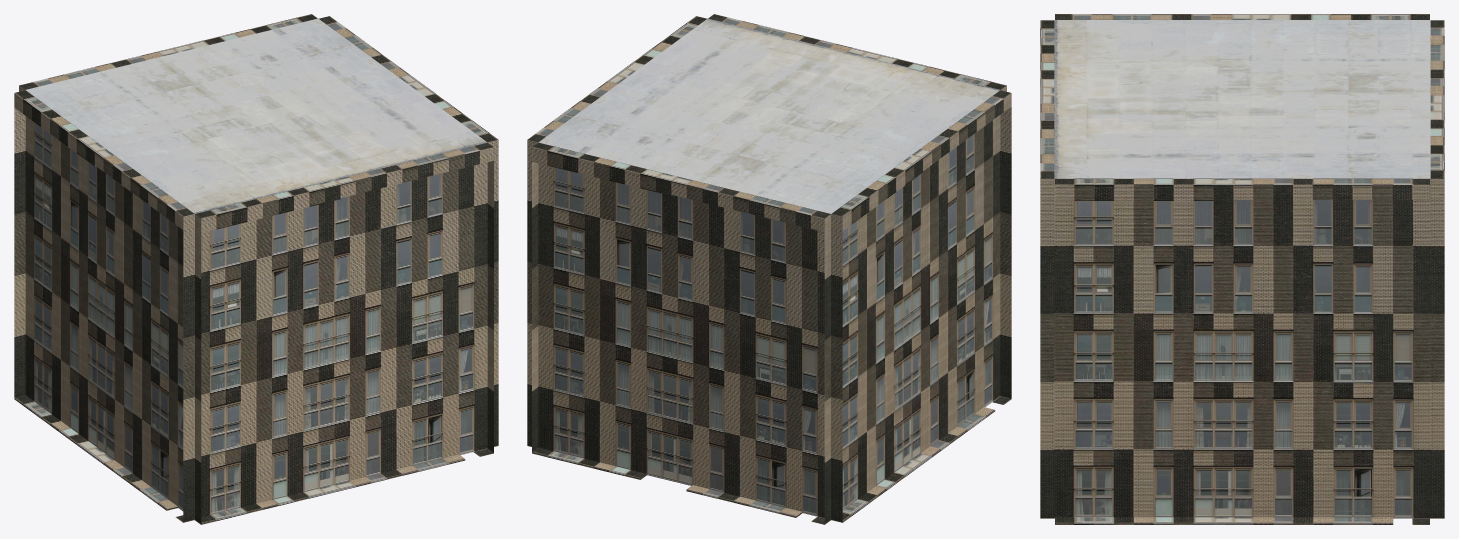
The model's file is BagSS04mid_100.fbx.
3 renders of one model, left to right at view 1: azimuth 30°, elevation 25°; view 2: azimuth 150°, elevation 25°; view 3: azimuth 270°, elevation 25°, orthographic. The views are drawn at different scales.
Visible parts, largest first — view 1: midBox100, midRoof100, midMain100; view 2: midBox100, midRoof100, midMain100; view 3: midBox100, midRoof100, midMain100.
Part boxes in pixels (x1,y1,x2,y2): midBox100: [25, 98, 487, 519]; midRoof100: [26, 18, 487, 213]; midMain100: [14, 14, 498, 524]; midBox100: [538, 98, 1000, 519]; midRoof100: [538, 18, 999, 213]; midMain100: [527, 14, 1011, 524]; midBox100: [1054, 178, 1430, 518]; midRoof100: [1054, 20, 1430, 178]; midMain100: [1040, 14, 1444, 524].
Size of the model in its own units: 22.1 by 20.51 by 22.1.
